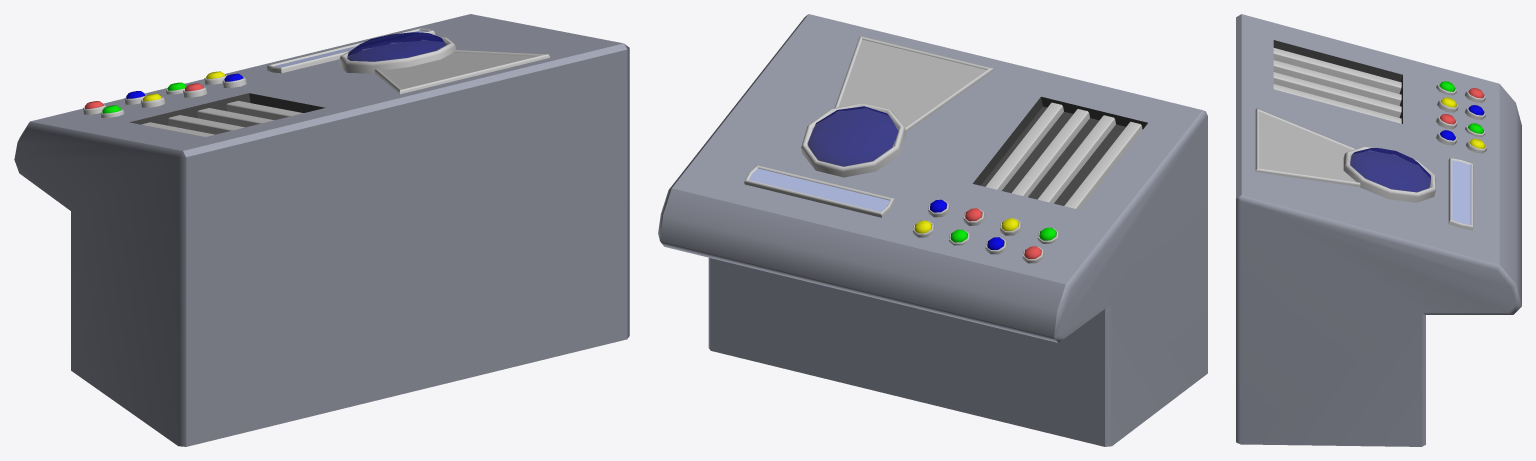
Rendered from Machine3.fbx.
3 views of the same model, side by side, from view 1: azimuth 30°, elevation 25°; view 2: azimuth 150°, elevation 25°; view 3: azimuth 270°, elevation 25° (orthographic). The views are drawn at different scales.
Parts seen in each view (by area): view 1: pCube123, polySurface11, polySurface8, polySurface9, polySurface10, pCube128, pCube127, pCube126; view 2: pCube123, polySurface11, polySurface8, polySurface9, polySurface10, pCube126, pCube128, pCube127, pCube129; view 3: pCube123, polySurface11, polySurface8, polySurface9, polySurface10, pCube129, pCube127, pCube128, pCube126.
Boxes of the visible parts, bbox=[...] form: pCube123: bbox=[14, 14, 629, 446]; polySurface11: bbox=[374, 49, 549, 94]; polySurface8: bbox=[339, 37, 456, 73]; polySurface9: bbox=[347, 32, 445, 61]; polySurface10: bbox=[267, 28, 435, 73]; pCube128: bbox=[168, 115, 244, 134]; pCube127: bbox=[197, 108, 273, 127]; pCube126: bbox=[226, 101, 303, 120]; pCube123: bbox=[658, 14, 1207, 446]; polySurface11: bbox=[834, 36, 993, 132]; polySurface8: bbox=[801, 103, 905, 177]; polySurface9: bbox=[807, 106, 898, 166]; polySurface10: bbox=[744, 165, 894, 217]; pCube126: bbox=[985, 102, 1063, 190]; pCube128: bbox=[1037, 115, 1115, 203]; pCube127: bbox=[1011, 109, 1089, 197]; pCube129: bbox=[1064, 121, 1142, 209]; pCube123: bbox=[1236, 14, 1521, 446]; polySurface11: bbox=[1255, 108, 1360, 186]; polySurface8: bbox=[1343, 146, 1435, 202]; polySurface9: bbox=[1350, 148, 1430, 192]; polySurface10: bbox=[1448, 157, 1473, 230]; pCube129: bbox=[1273, 48, 1401, 93]; pCube127: bbox=[1273, 72, 1401, 117]; pCube128: bbox=[1273, 60, 1401, 105]; pCube126: bbox=[1273, 84, 1401, 123].
Size of the model in its own units: 48.27 by 30.31 by 31.45.
